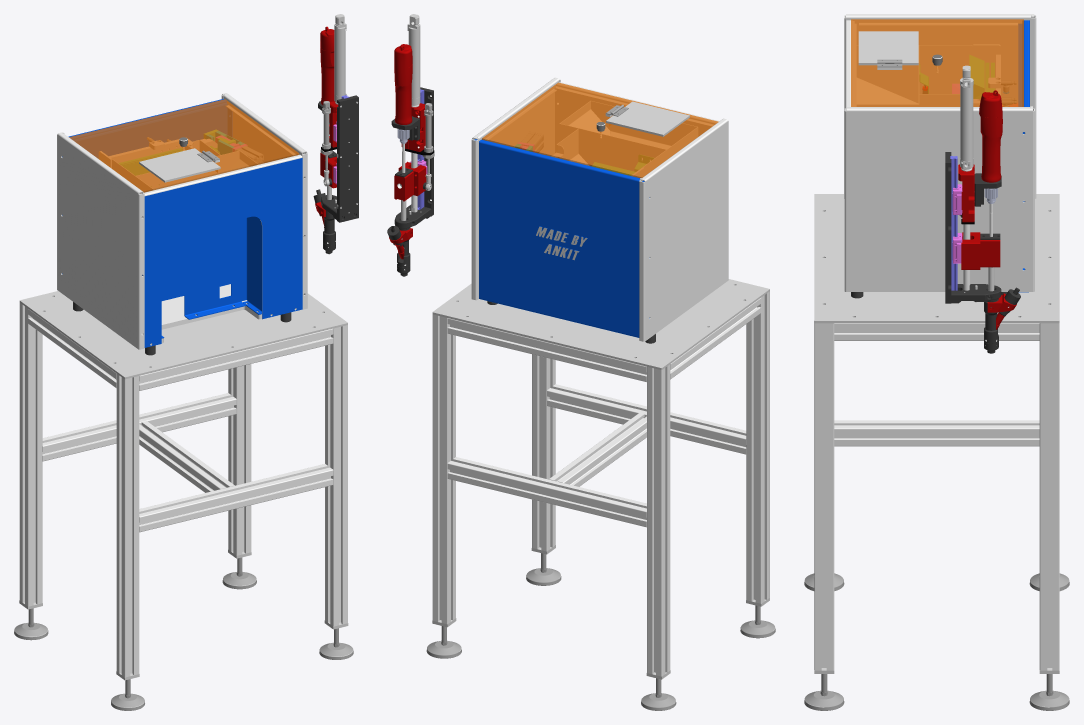
3 renders of one model, left to right at view 1: azimuth 30°, elevation 25°; view 2: azimuth 150°, elevation 25°; view 3: azimuth 270°, elevation 25°, orthographic. The views are drawn at different scales.
Parts seen in each view (by area): view 1: 26-1001-90 02 _Automatic screw feeder, 26-1001-90 01 100 _ STAND, 26-1001-90 03 _SCREW TIGHTENER, 26-1001-90 03 101 _SCREW DRIVER ASSY-1/BN519P-1, DSNU-25-125-PPV-A-2/_19249 DSNU-25-125-PPV---(A----0-ZR)-1, 26-1001-90 02 101_FEEDER ASSY-1/26-1001-90 02 101 201 _HOPPE, KE4016303-M12-1, KE4016303-M12-2, KE4016303-M12-4, KE4016303-M12-3; view 2: 26-1001-90 02 _Automatic screw feeder, 26-1001-90 01 100 _ STAND, 26-1001-90 02 101_FEEDER ASSY-1/26-1001-90 02 101 201 _HOPPE (×3), 26-1001-90 03 _SCREW TIGHTENER, 26-1001-90 03 101 _SCREW DRIVER ASSY-1/BN519P-1, DSNU-25-125-PPV-A-2/_19249 DSNU-25-125-PPV---(A----0-ZR)-1, KE4016303-M12-4, KE4016303-M12-3, KE4016303-M12-2, KE4016303-M12-1; view 3: 26-1001-90 02 _Automatic screw feeder, 26-1001-90 01 100 _ STAND, 26-1001-90 02 101_FEEDER ASSY-1/26-1001-90 02 101 201 _HOPPE (×3), 26-1001-90 03 _SCREW TIGHTENER, 26-1001-90 03 101 _SCREW DRIVER ASSY-1/BN519P-1, DSNU-25-125-PPV-A-2/_19249 DSNU-25-125-PPV---(A----0-ZR)-1, KE4016303-M12-2, KE4016303-M12-3, HSR15A ASM-2/HSR-15A RAIL-1, 26-1001-90 02 101_FEEDER ASSY-1/26-1001-90 02 101 200 308.0-.
Part boxes in pixels (x1,y1,x2,y2): 26-1001-90 02 _Automatic screw feeder: [57, 93, 307, 355]; 26-1001-90 01 100 _ STAND: [19, 291, 347, 677]; 26-1001-90 03 _SCREW TIGHTENER: [318, 95, 358, 222]; 26-1001-90 03 101 _SCREW DRIVER ASSY-1/BN519P-1: [320, 26, 334, 104]; DSNU-25-125-PPV-A-2/_19249 DSNU-25-125-PPV---(A----0-ZR)-1: [334, 14, 346, 104]; 26-1001-90 02 101_FEEDER ASSY-1/26-1001-90 02 101 201 _HOPPE: [136, 151, 239, 189]; KE4016303-M12-1: [14, 600, 48, 640]; KE4016303-M12-2: [222, 550, 256, 589]; KE4016303-M12-4: [111, 671, 144, 710]; KE4016303-M12-3: [319, 620, 353, 659]; 26-1001-90 02 _Automatic screw feeder: [471, 77, 728, 343]; 26-1001-90 01 100 _ STAND: [432, 279, 769, 676]; 26-1001-90 02 101_FEEDER ASSY-1/26-1001-90 02 101 201 _HOPPE (×3): [560, 101, 696, 170]; 26-1001-90 03 _SCREW TIGHTENER: [391, 87, 434, 228]; 26-1001-90 03 101 _SCREW DRIVER ASSY-1/BN519P-1: [394, 44, 412, 143]; DSNU-25-125-PPV-A-2/_19249 DSNU-25-125-PPV---(A----0-ZR)-1: [407, 14, 420, 107]; KE4016303-M12-4: [740, 598, 775, 638]; KE4016303-M12-3: [526, 545, 561, 585]; KE4016303-M12-2: [426, 618, 461, 658]; KE4016303-M12-1: [641, 670, 676, 710]; 26-1001-90 02 _Automatic screw feeder: [844, 14, 1036, 298]; 26-1001-90 01 100 _ STAND: [814, 194, 1059, 670]; 26-1001-90 02 101_FEEDER ASSY-1/26-1001-90 02 101 201 _HOPPE (×3): [857, 45, 972, 106]; 26-1001-90 03 _SCREW TIGHTENER: [945, 152, 1001, 303]; 26-1001-90 03 101 _SCREW DRIVER ASSY-1/BN519P-1: [979, 90, 1002, 203]; DSNU-25-125-PPV-A-2/_19249 DSNU-25-125-PPV---(A----0-ZR)-1: [960, 65, 973, 171]; KE4016303-M12-2: [1029, 668, 1069, 710]; KE4016303-M12-3: [804, 668, 844, 710]; HSR15A ASM-2/HSR-15A RAIL-1: [950, 156, 957, 290]; 26-1001-90 02 101_FEEDER ASSY-1/26-1001-90 02 101 200 308.0-: [973, 57, 984, 98].
Size of the model in its own units: 0.7994 by 1.48 by 0.5299.
